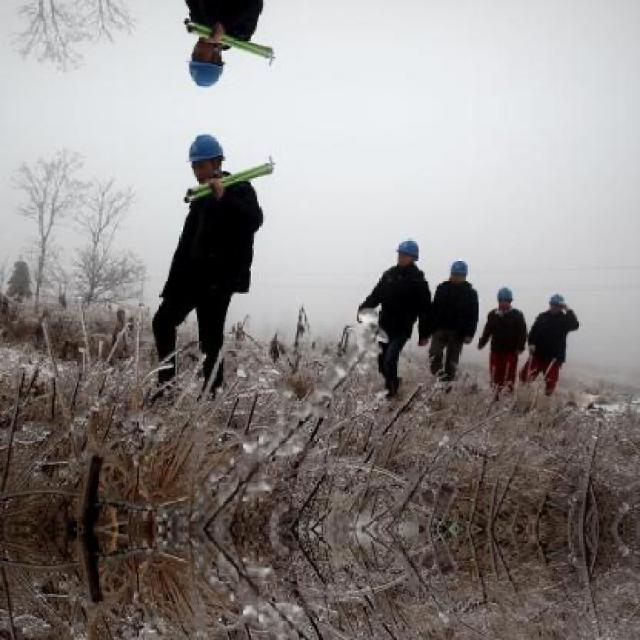con casco: (173, 120, 236, 190), (374, 231, 428, 282), (490, 281, 536, 319), (442, 249, 474, 296), (542, 287, 566, 327)
